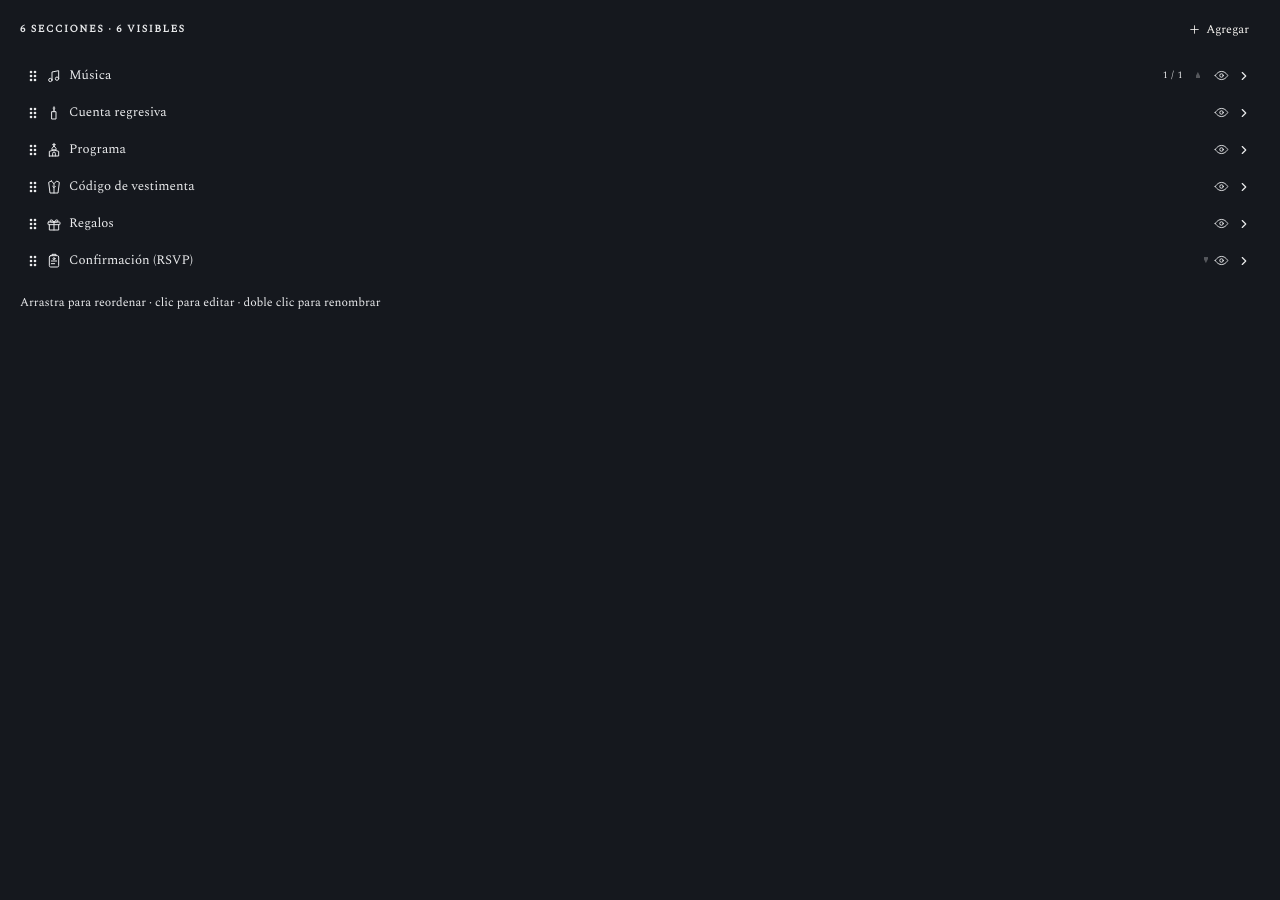
Test: SectionsTab — the inspector › goes back to the list
What coordinates should you click on to do the following:
click the button "Programa"
I would click on:
 (97, 149)
Its box is [69, 139, 1189, 160].
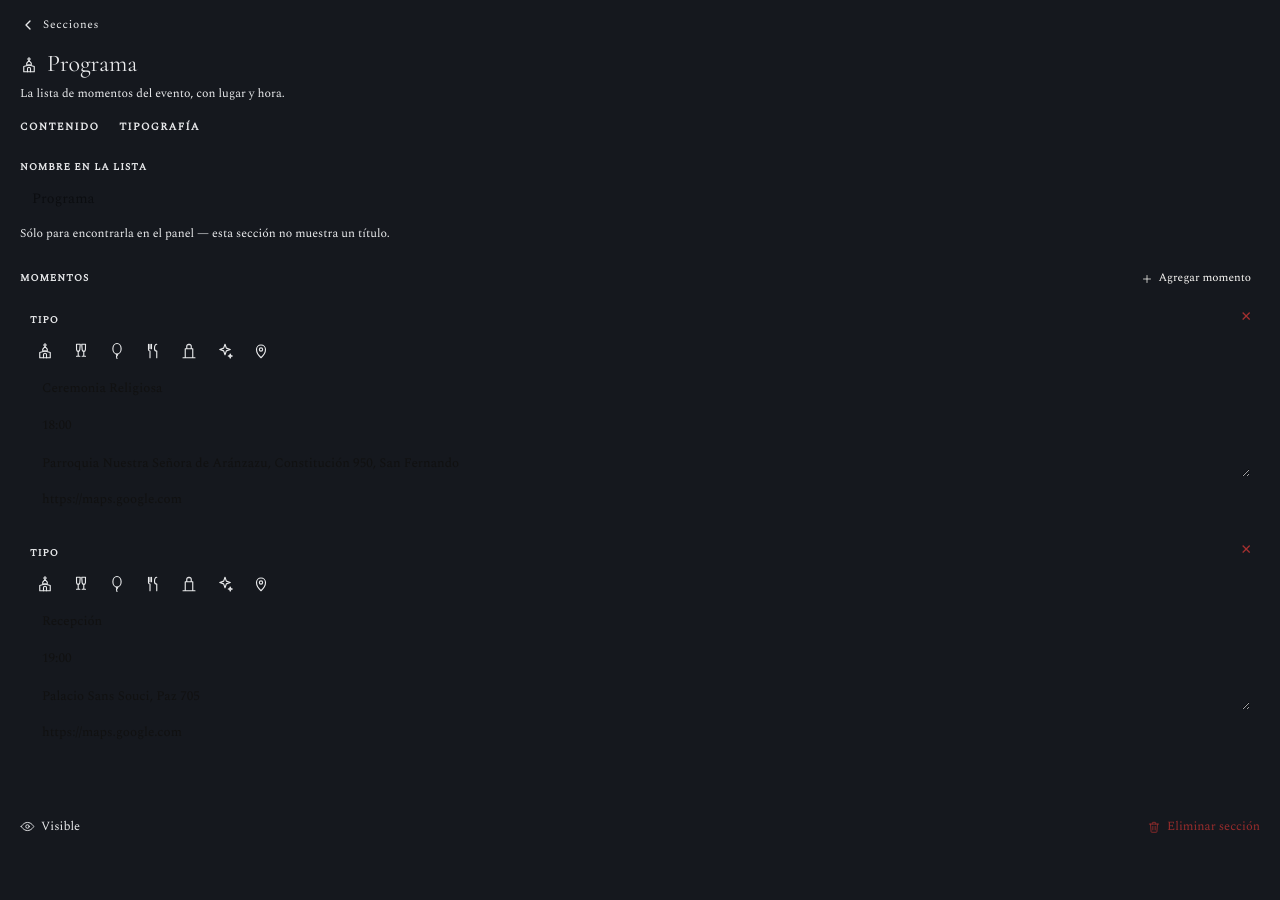
What coordinates should you click on to do the following:
click the button "Secciones"
I would click on:
 (60, 25)
Its box is [20, 16, 99, 34].
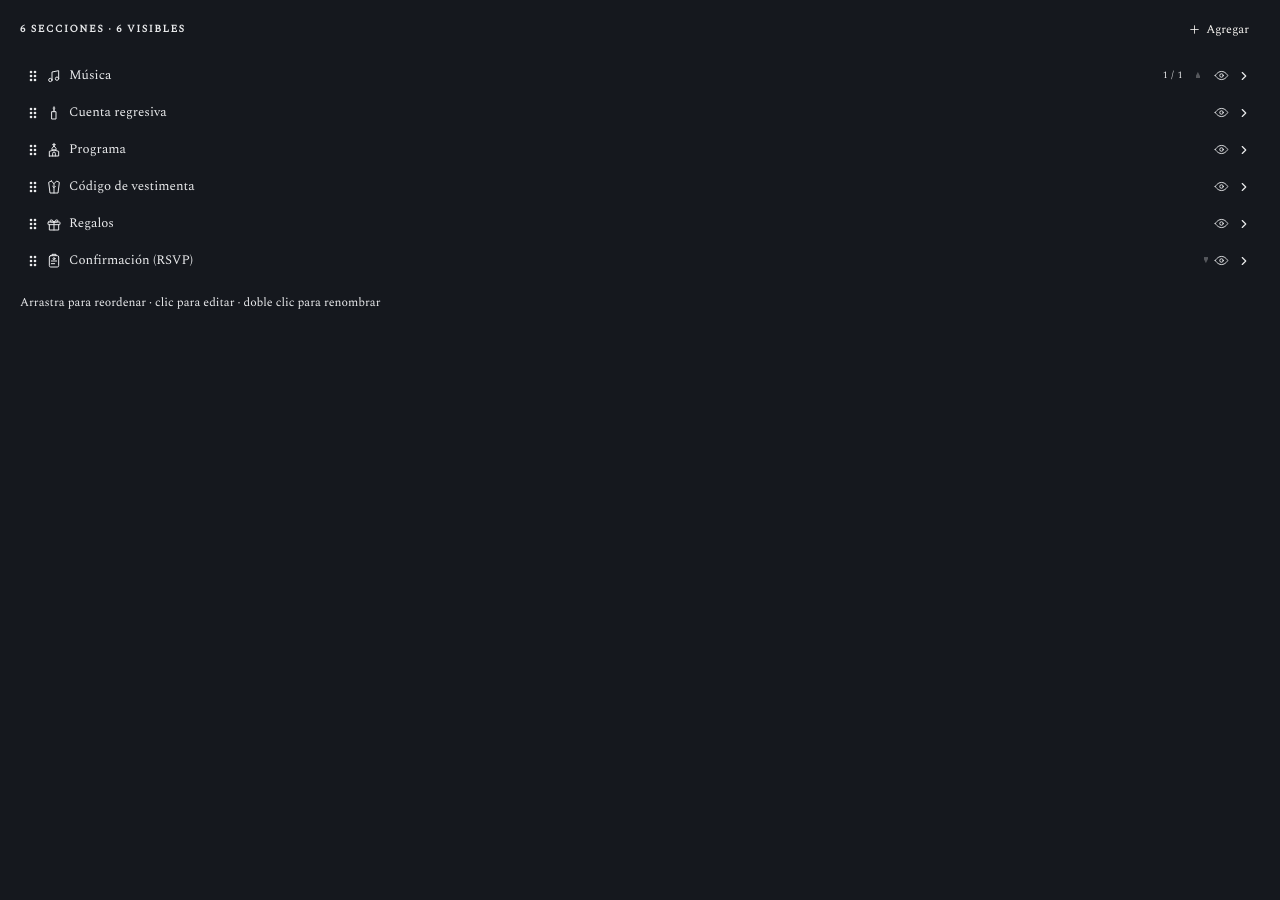
Expected: the list is shown, [20, 59, 1260, 277]
